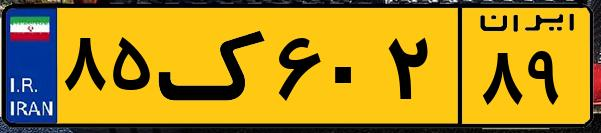0: (330, 28, 385, 110)
2: (385, 28, 445, 110)
5: (110, 28, 158, 98)
6: (270, 28, 330, 110)
8: (57, 26, 110, 100), (475, 38, 525, 113)
9: (525, 38, 570, 115)
ک: (158, 12, 270, 120)
